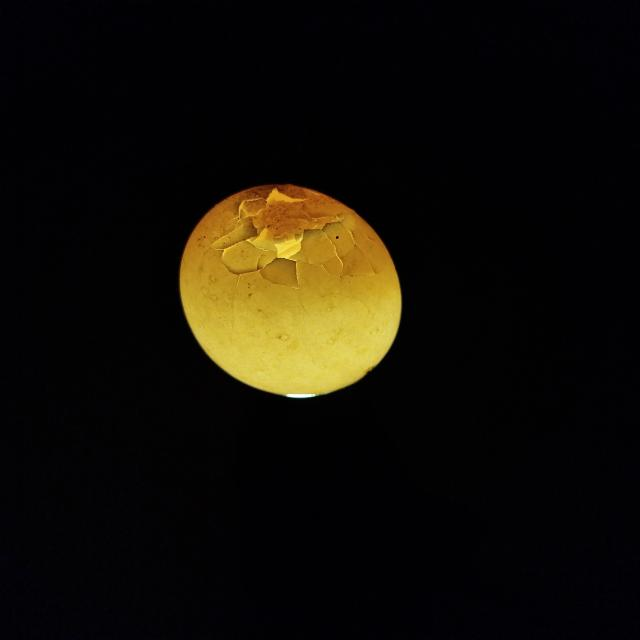Rachadura: (206, 186, 378, 305)
